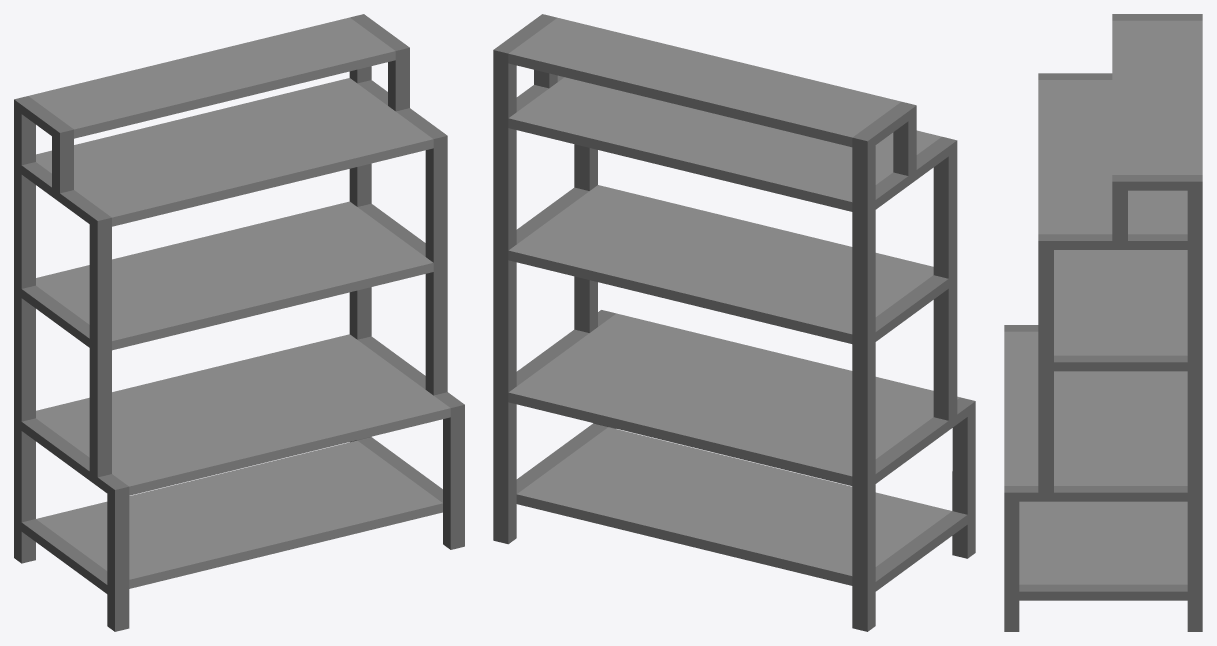
Rendered from Int_KitchenShelf01_1.fbx.
The picture shows the model from 3 angles, left to right: view 1: azimuth 30°, elevation 25°; view 2: azimuth 150°, elevation 25°; view 3: azimuth 270°, elevation 25°; orthographic projection. The views are drawn at different scales.
Parts seen in each view (by area): view 1: Int_KitchenShelf01_1; view 2: Int_KitchenShelf01_1; view 3: Int_KitchenShelf01_1.
Part boxes in pixels (bbox=[...]): Int_KitchenShelf01_1: bbox=[14, 14, 464, 631]; Int_KitchenShelf01_1: bbox=[493, 14, 975, 631]; Int_KitchenShelf01_1: bbox=[1004, 14, 1202, 631].
Size of what is drawn, in the model's own units: 200 by 100 by 250.
